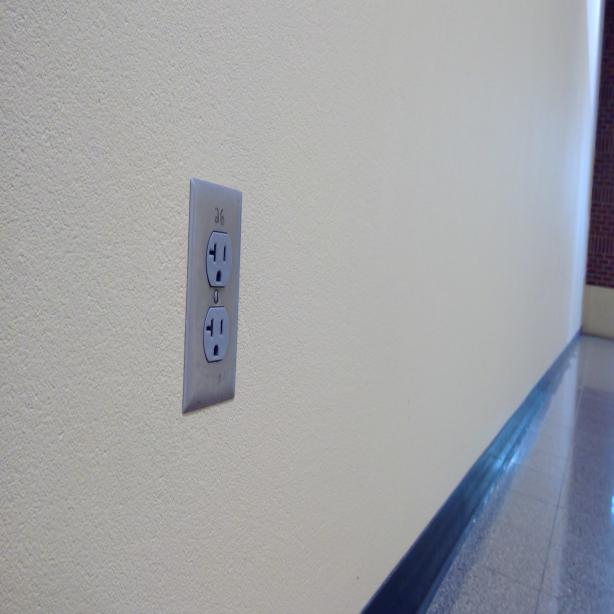typeb: (206, 230, 235, 292), (204, 307, 229, 366)
